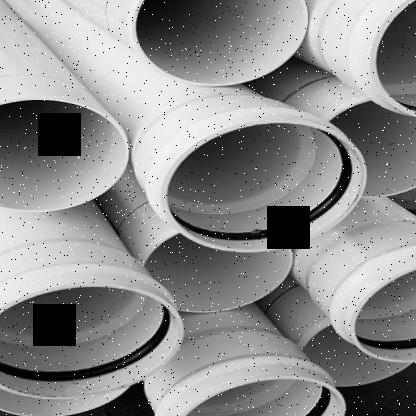pipe: (160, 122, 368, 253), (0, 284, 185, 399), (133, 0, 310, 86), (0, 99, 129, 213), (144, 232, 294, 314), (328, 94, 416, 202), (300, 317, 414, 390), (179, 375, 345, 416), (349, 266, 416, 362), (366, 0, 416, 113)
